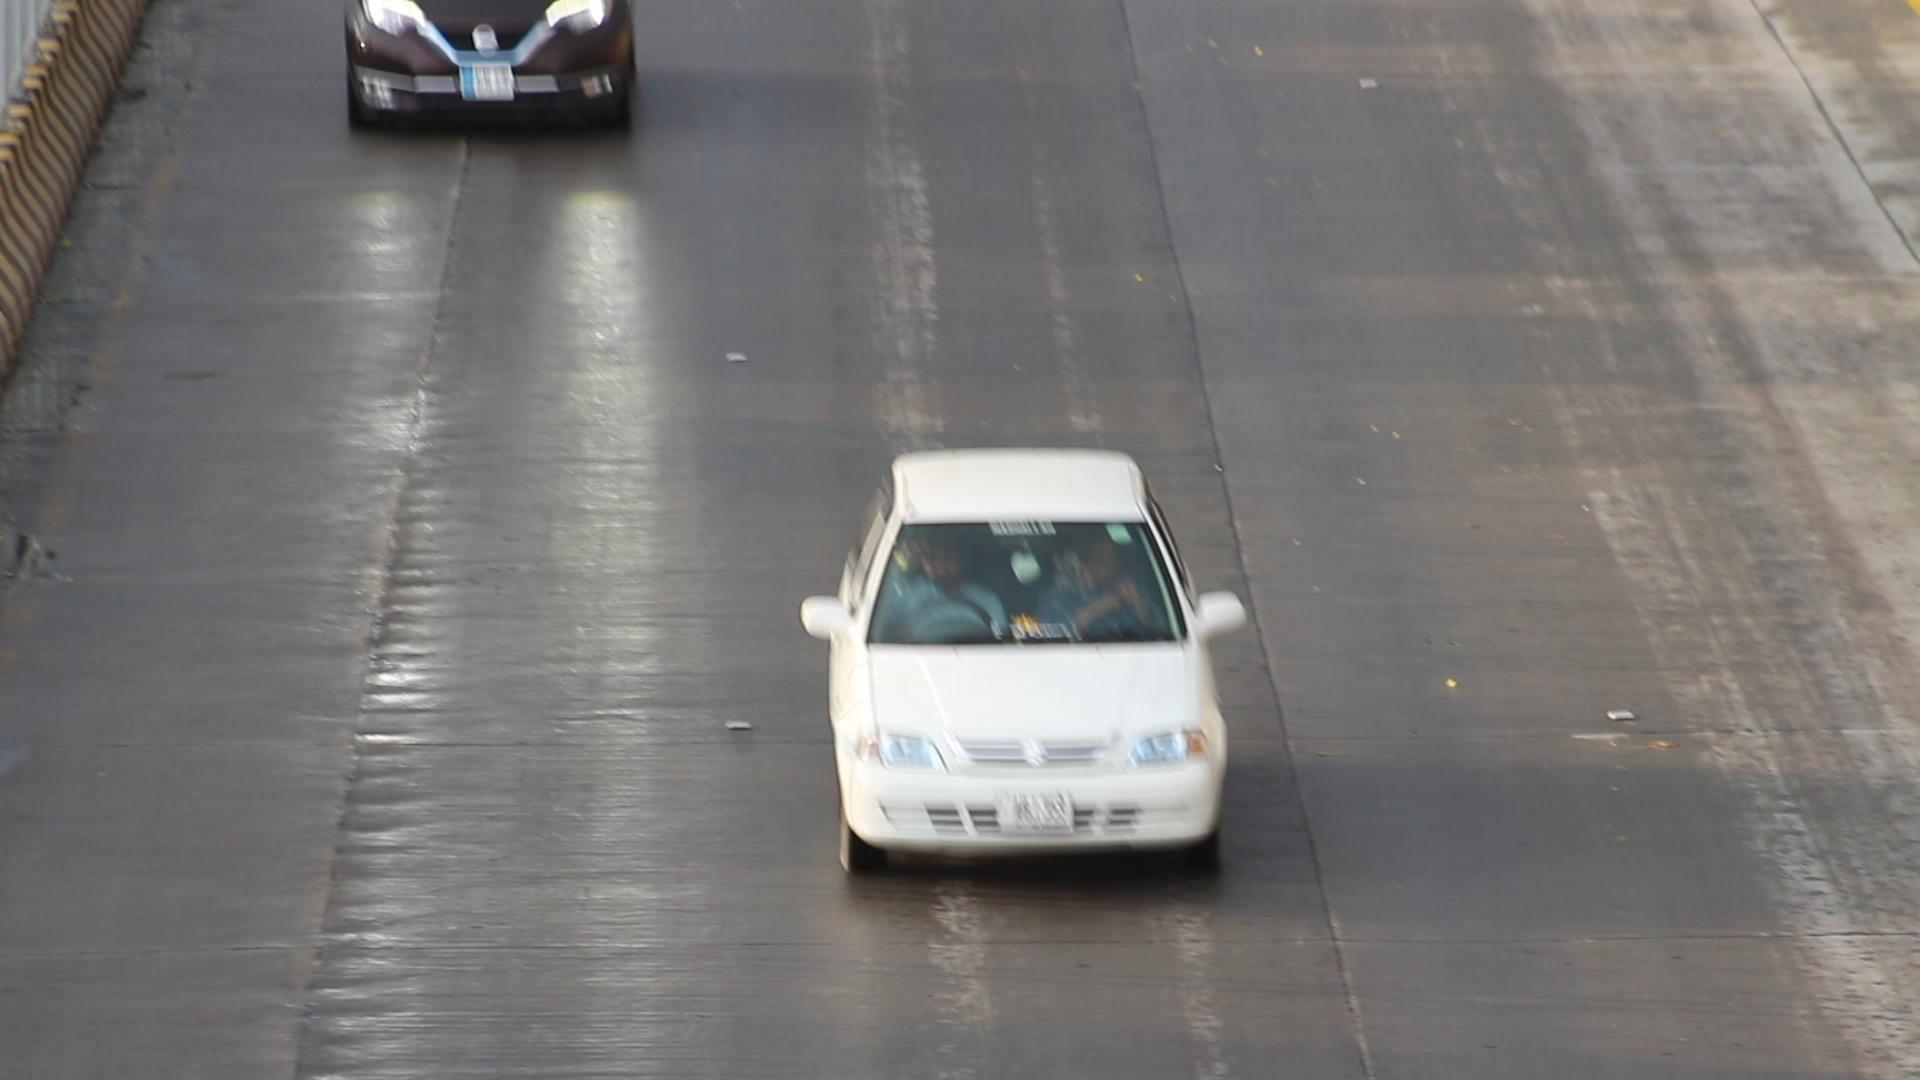windshield: (864, 497, 1197, 646)
